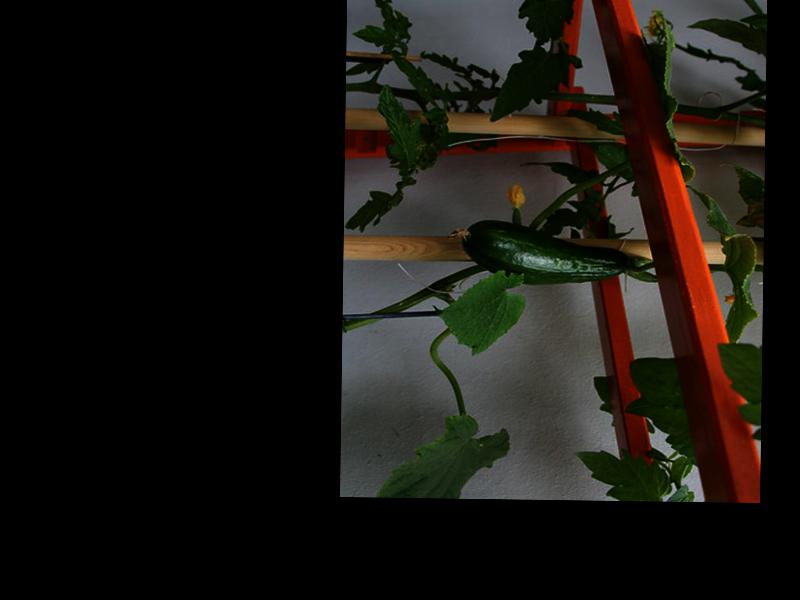Cucumber: (449, 219, 628, 285)
